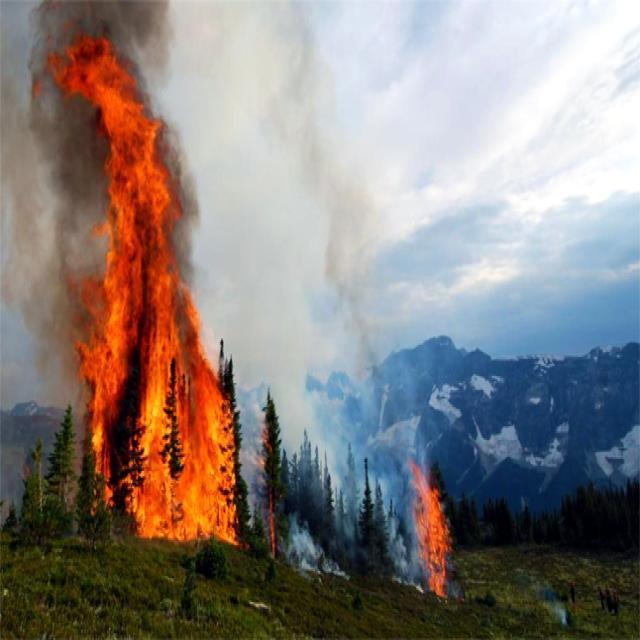Fire: (71, 29, 242, 550), (404, 459, 454, 594), (254, 410, 276, 560)
Smoke: (240, 0, 380, 386), (244, 394, 406, 590), (0, 4, 84, 371), (81, 1, 187, 64)
